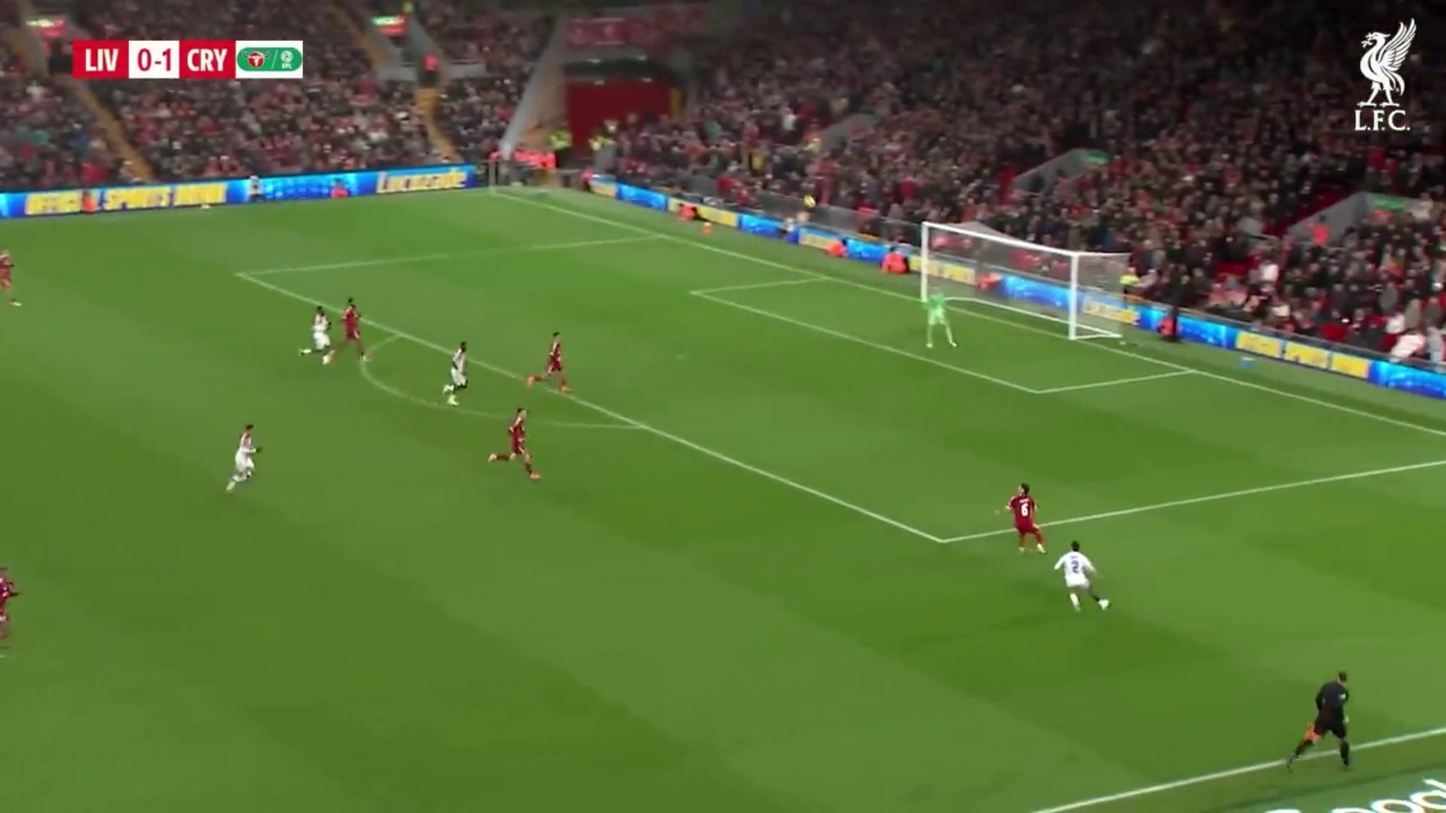player: (1287, 671, 1353, 770), (1310, 671, 1353, 769), (487, 408, 542, 480), (1055, 542, 1103, 611), (1003, 481, 1044, 552), (529, 332, 571, 396), (226, 423, 261, 494), (333, 297, 368, 367), (300, 308, 336, 367), (443, 338, 471, 402), (540, 333, 568, 393), (337, 296, 364, 358), (0, 566, 19, 654), (309, 307, 334, 363), (340, 297, 361, 353), (0, 248, 18, 309)
